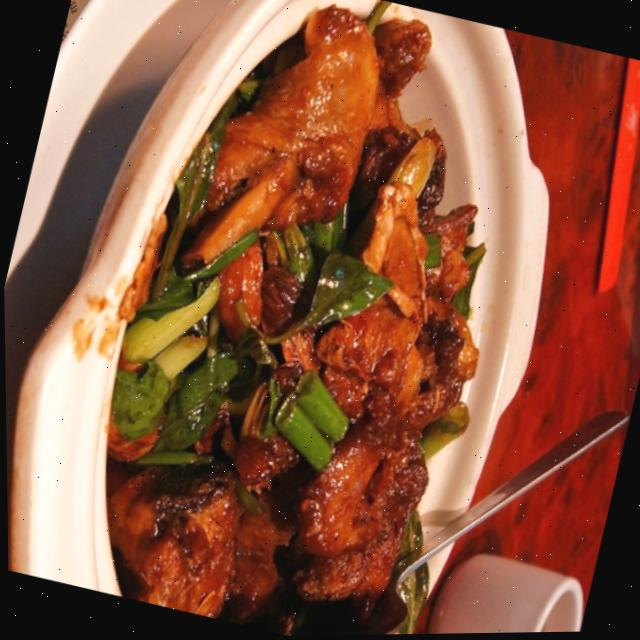鸡肉料理 含炸鸡: (58, 0, 573, 639)
